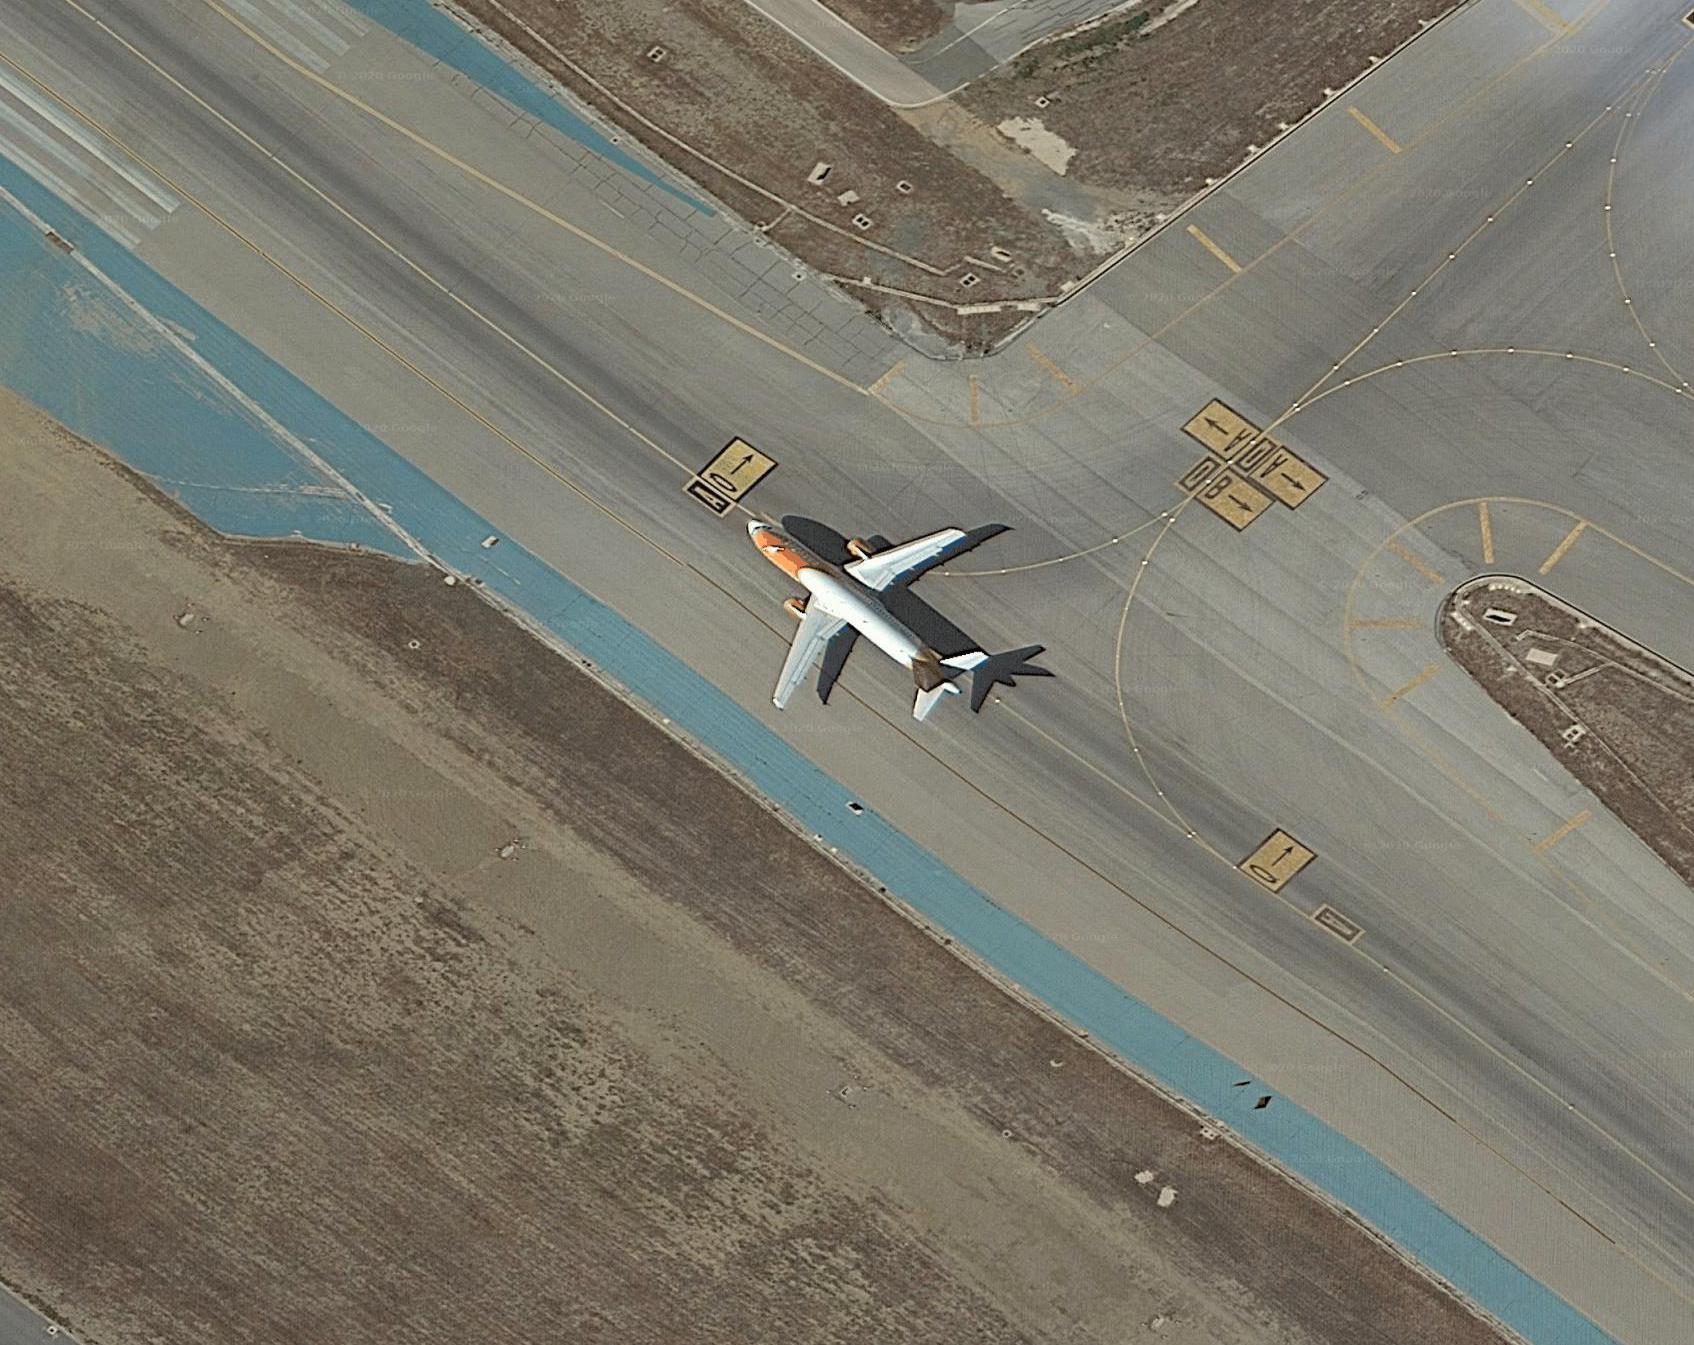plane: (712, 492, 994, 733)
